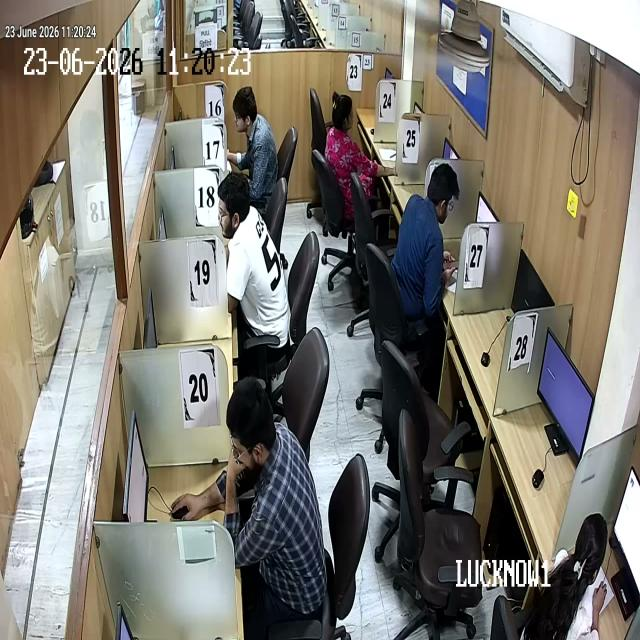phone: (442, 254, 459, 283)
